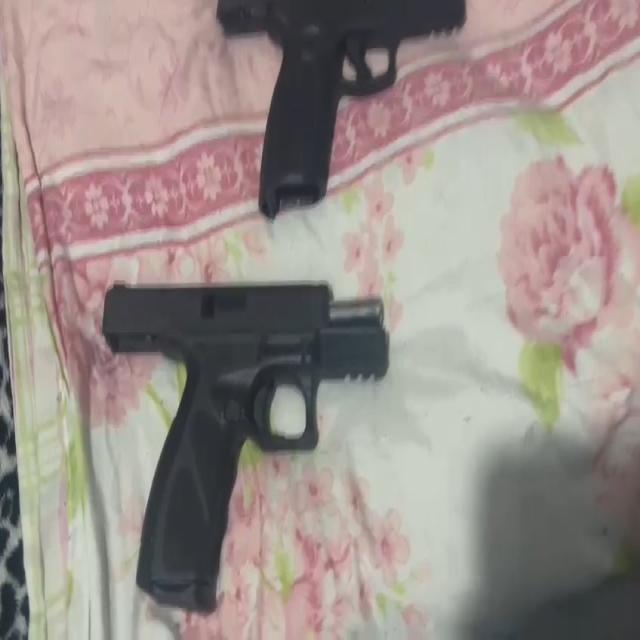gun: (98, 270, 394, 616), (212, 0, 472, 226)
